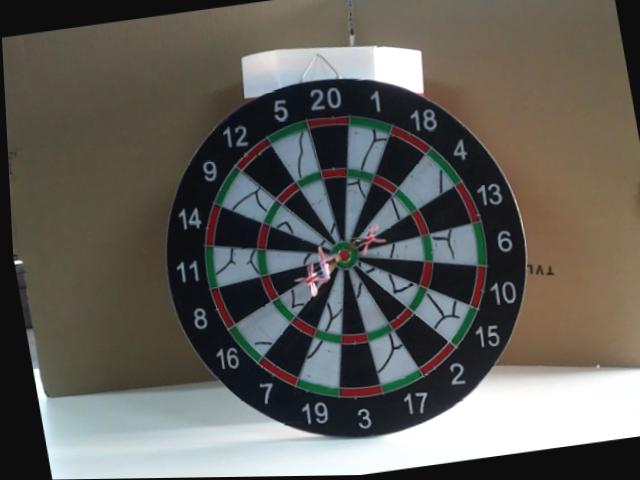bullseye: (332, 246, 358, 268)
